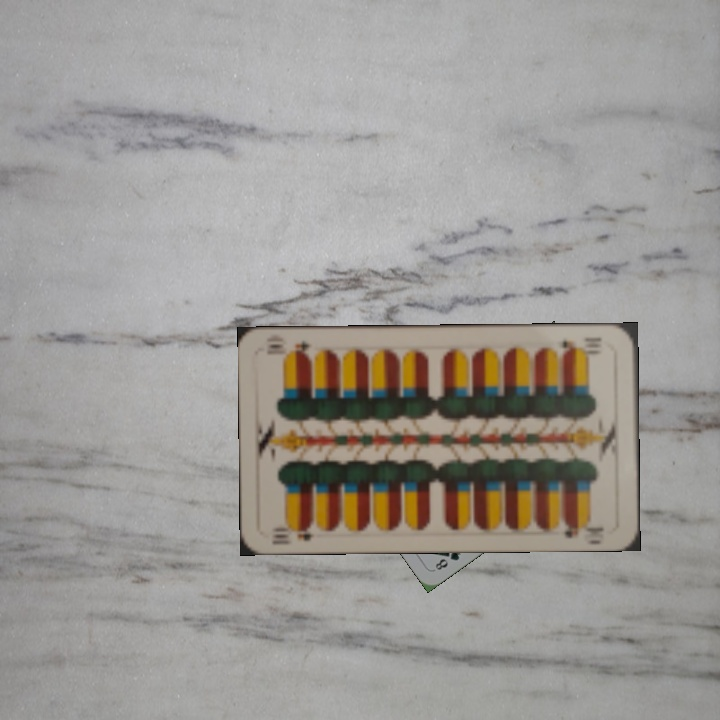E10: (269, 519, 324, 544), (557, 333, 604, 357)
G8: (431, 546, 464, 573)
